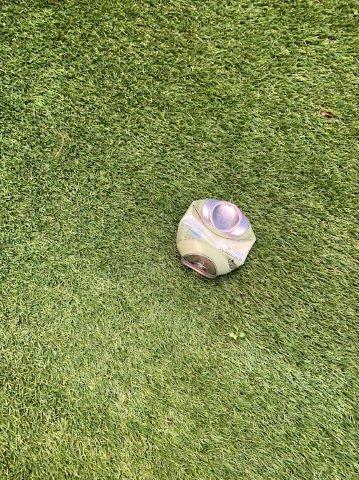kaleng: (178, 200, 255, 277)
